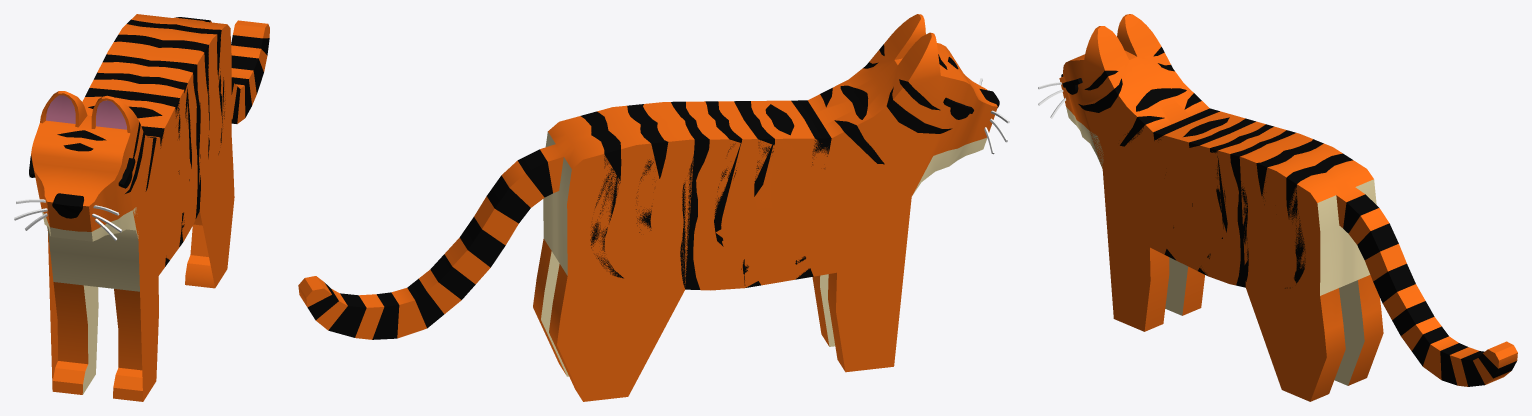
The model's file is tiger.fbx.
3 views of the same model, side by side, from view 1: azimuth 30°, elevation 25°; view 2: azimuth 150°, elevation 25°; view 3: azimuth 270°, elevation 25° (orthographic). The views are drawn at different scales.
Visible parts, largest first — view 1: Plane.157, Cube.007, Circle.1953, Circle.1954; view 2: Plane.157; view 3: Plane.157.
Part boxes in pixels (x1=…): Plane.157: x1=31, y1=14, x2=269, y2=401; Cube.007: x1=14, y1=199, x2=122, y2=240; Circle.1953: x1=52, y1=193, x2=83, y2=218; Circle.1954: x1=29, y1=155, x2=135, y2=187; Plane.157: x1=298, y1=14, x2=997, y2=401; Plane.157: x1=1059, y1=14, x2=1517, y2=401.
Size of the model in its own units: 249 by 157 by 249.
1 material, 1 textured.
